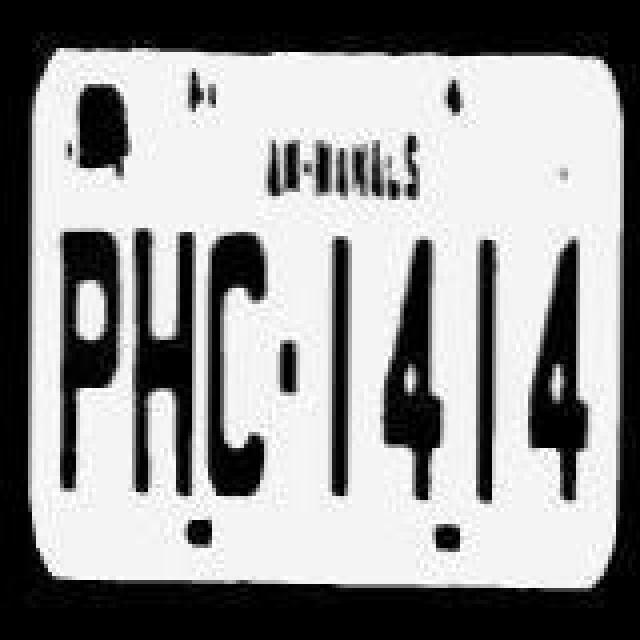1: (310, 220, 358, 500), (464, 228, 508, 524)
4: (522, 232, 594, 528), (376, 240, 452, 512)
C: (200, 218, 276, 510)
H: (124, 208, 200, 504)
P: (54, 210, 134, 510)
